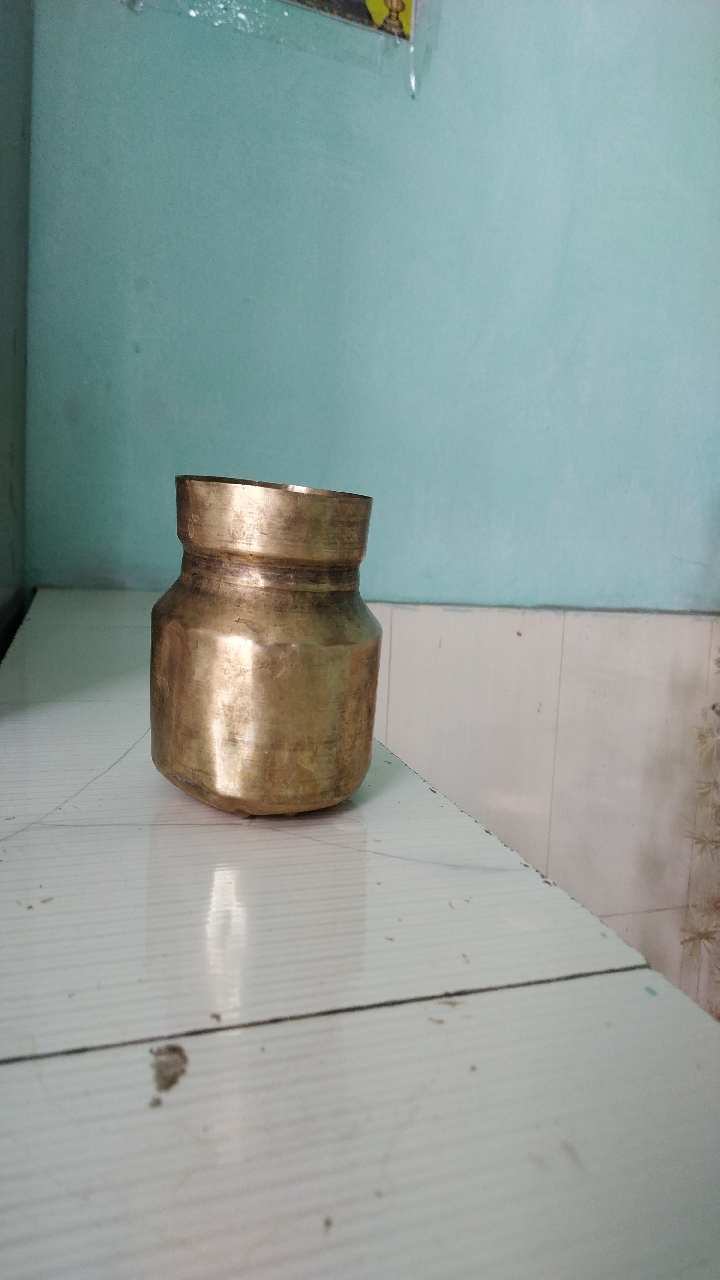garments: (133, 458, 387, 822)
